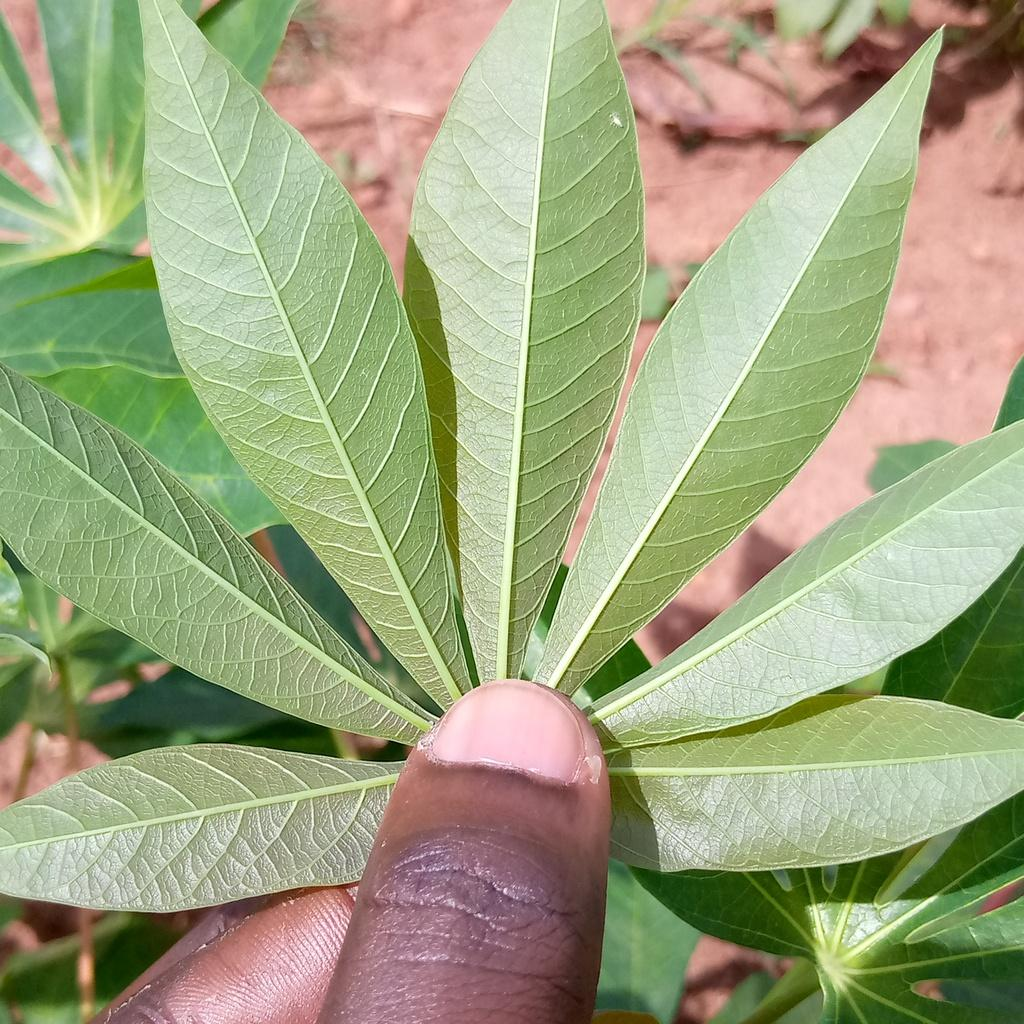adult: (613, 117, 623, 127)
